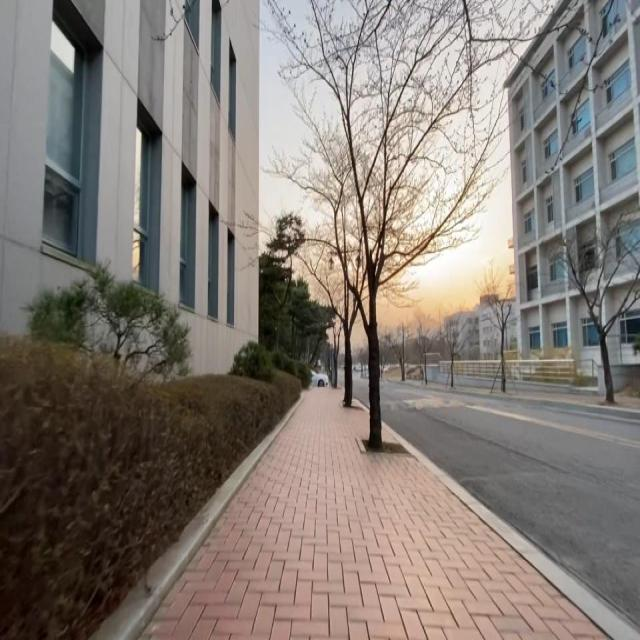sidewalk: (139, 389, 640, 640), (517, 388, 640, 414)
